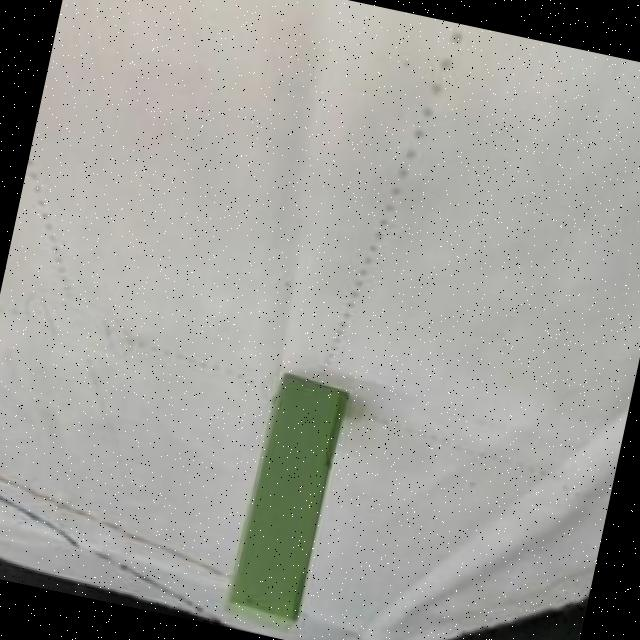greenbox: (220, 368, 348, 630)
